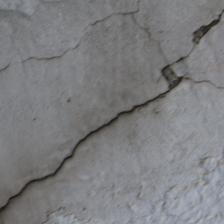Crack: (4, 81, 181, 213), (4, 7, 169, 75), (175, 8, 222, 64), (180, 75, 223, 95)
